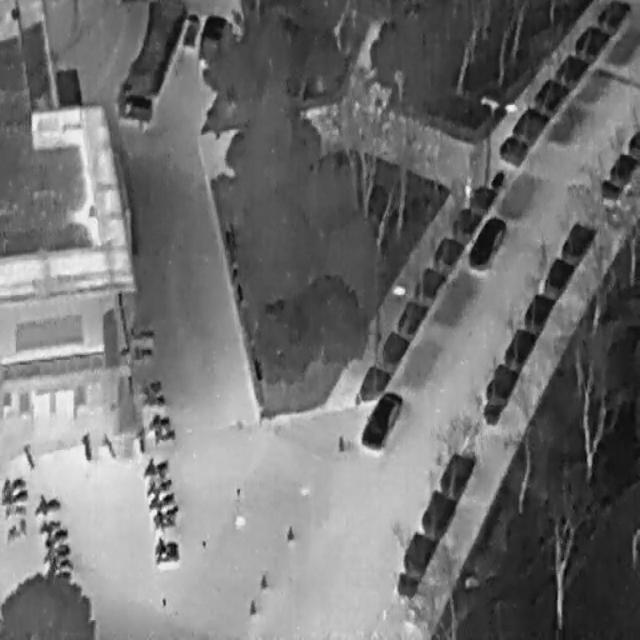Bicycle: (29, 486, 63, 519), (0, 512, 31, 548), (147, 502, 181, 532), (39, 536, 70, 566), (43, 550, 74, 579), (35, 510, 64, 538), (139, 452, 170, 478), (145, 488, 178, 512), (75, 428, 96, 464), (41, 522, 70, 548), (142, 477, 173, 498), (99, 429, 119, 459), (0, 486, 30, 506), (18, 441, 38, 470), (146, 409, 171, 431), (0, 500, 28, 519), (0, 472, 26, 492), (129, 324, 154, 344), (133, 424, 148, 454), (140, 392, 167, 408), (151, 426, 175, 444), (154, 549, 179, 566), (139, 378, 161, 397), (153, 535, 179, 551), (131, 342, 153, 360)
Car: (355, 379, 408, 459), (460, 206, 511, 279)
DontCare: (178, 8, 204, 52)
OtherVehicle: (191, 8, 232, 72), (116, 88, 154, 124)
Person: (458, 170, 474, 211)
